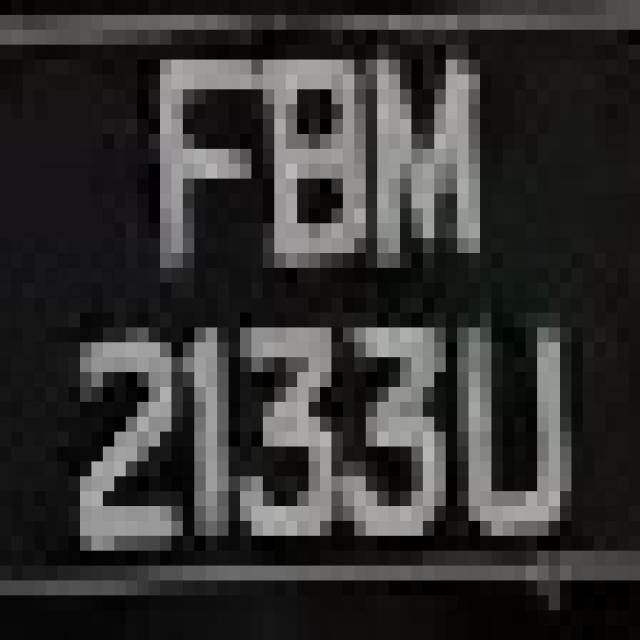1: (148, 283, 228, 536)
2: (34, 298, 183, 566)
3: (354, 312, 457, 596), (228, 282, 332, 550)
B: (240, 15, 354, 298)
F: (137, 30, 252, 312)
M: (331, 15, 503, 312)
U: (446, 312, 594, 580)
